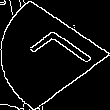L_SE: (15, 26, 95, 84)
